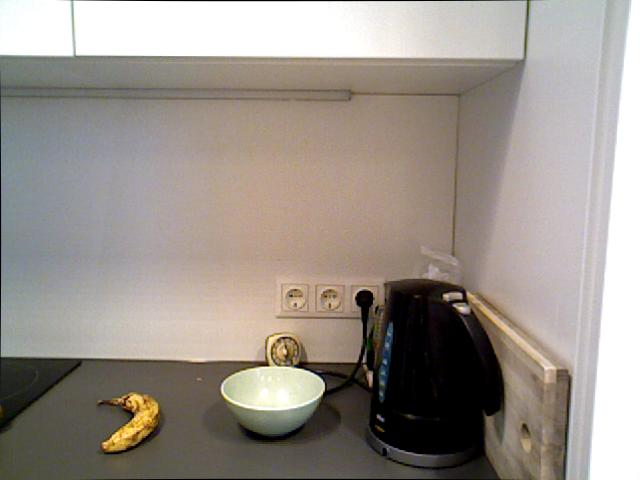bird: (219, 365, 326, 437)
giraffe: (263, 332, 301, 367)
motorcycle: (96, 391, 160, 453)
